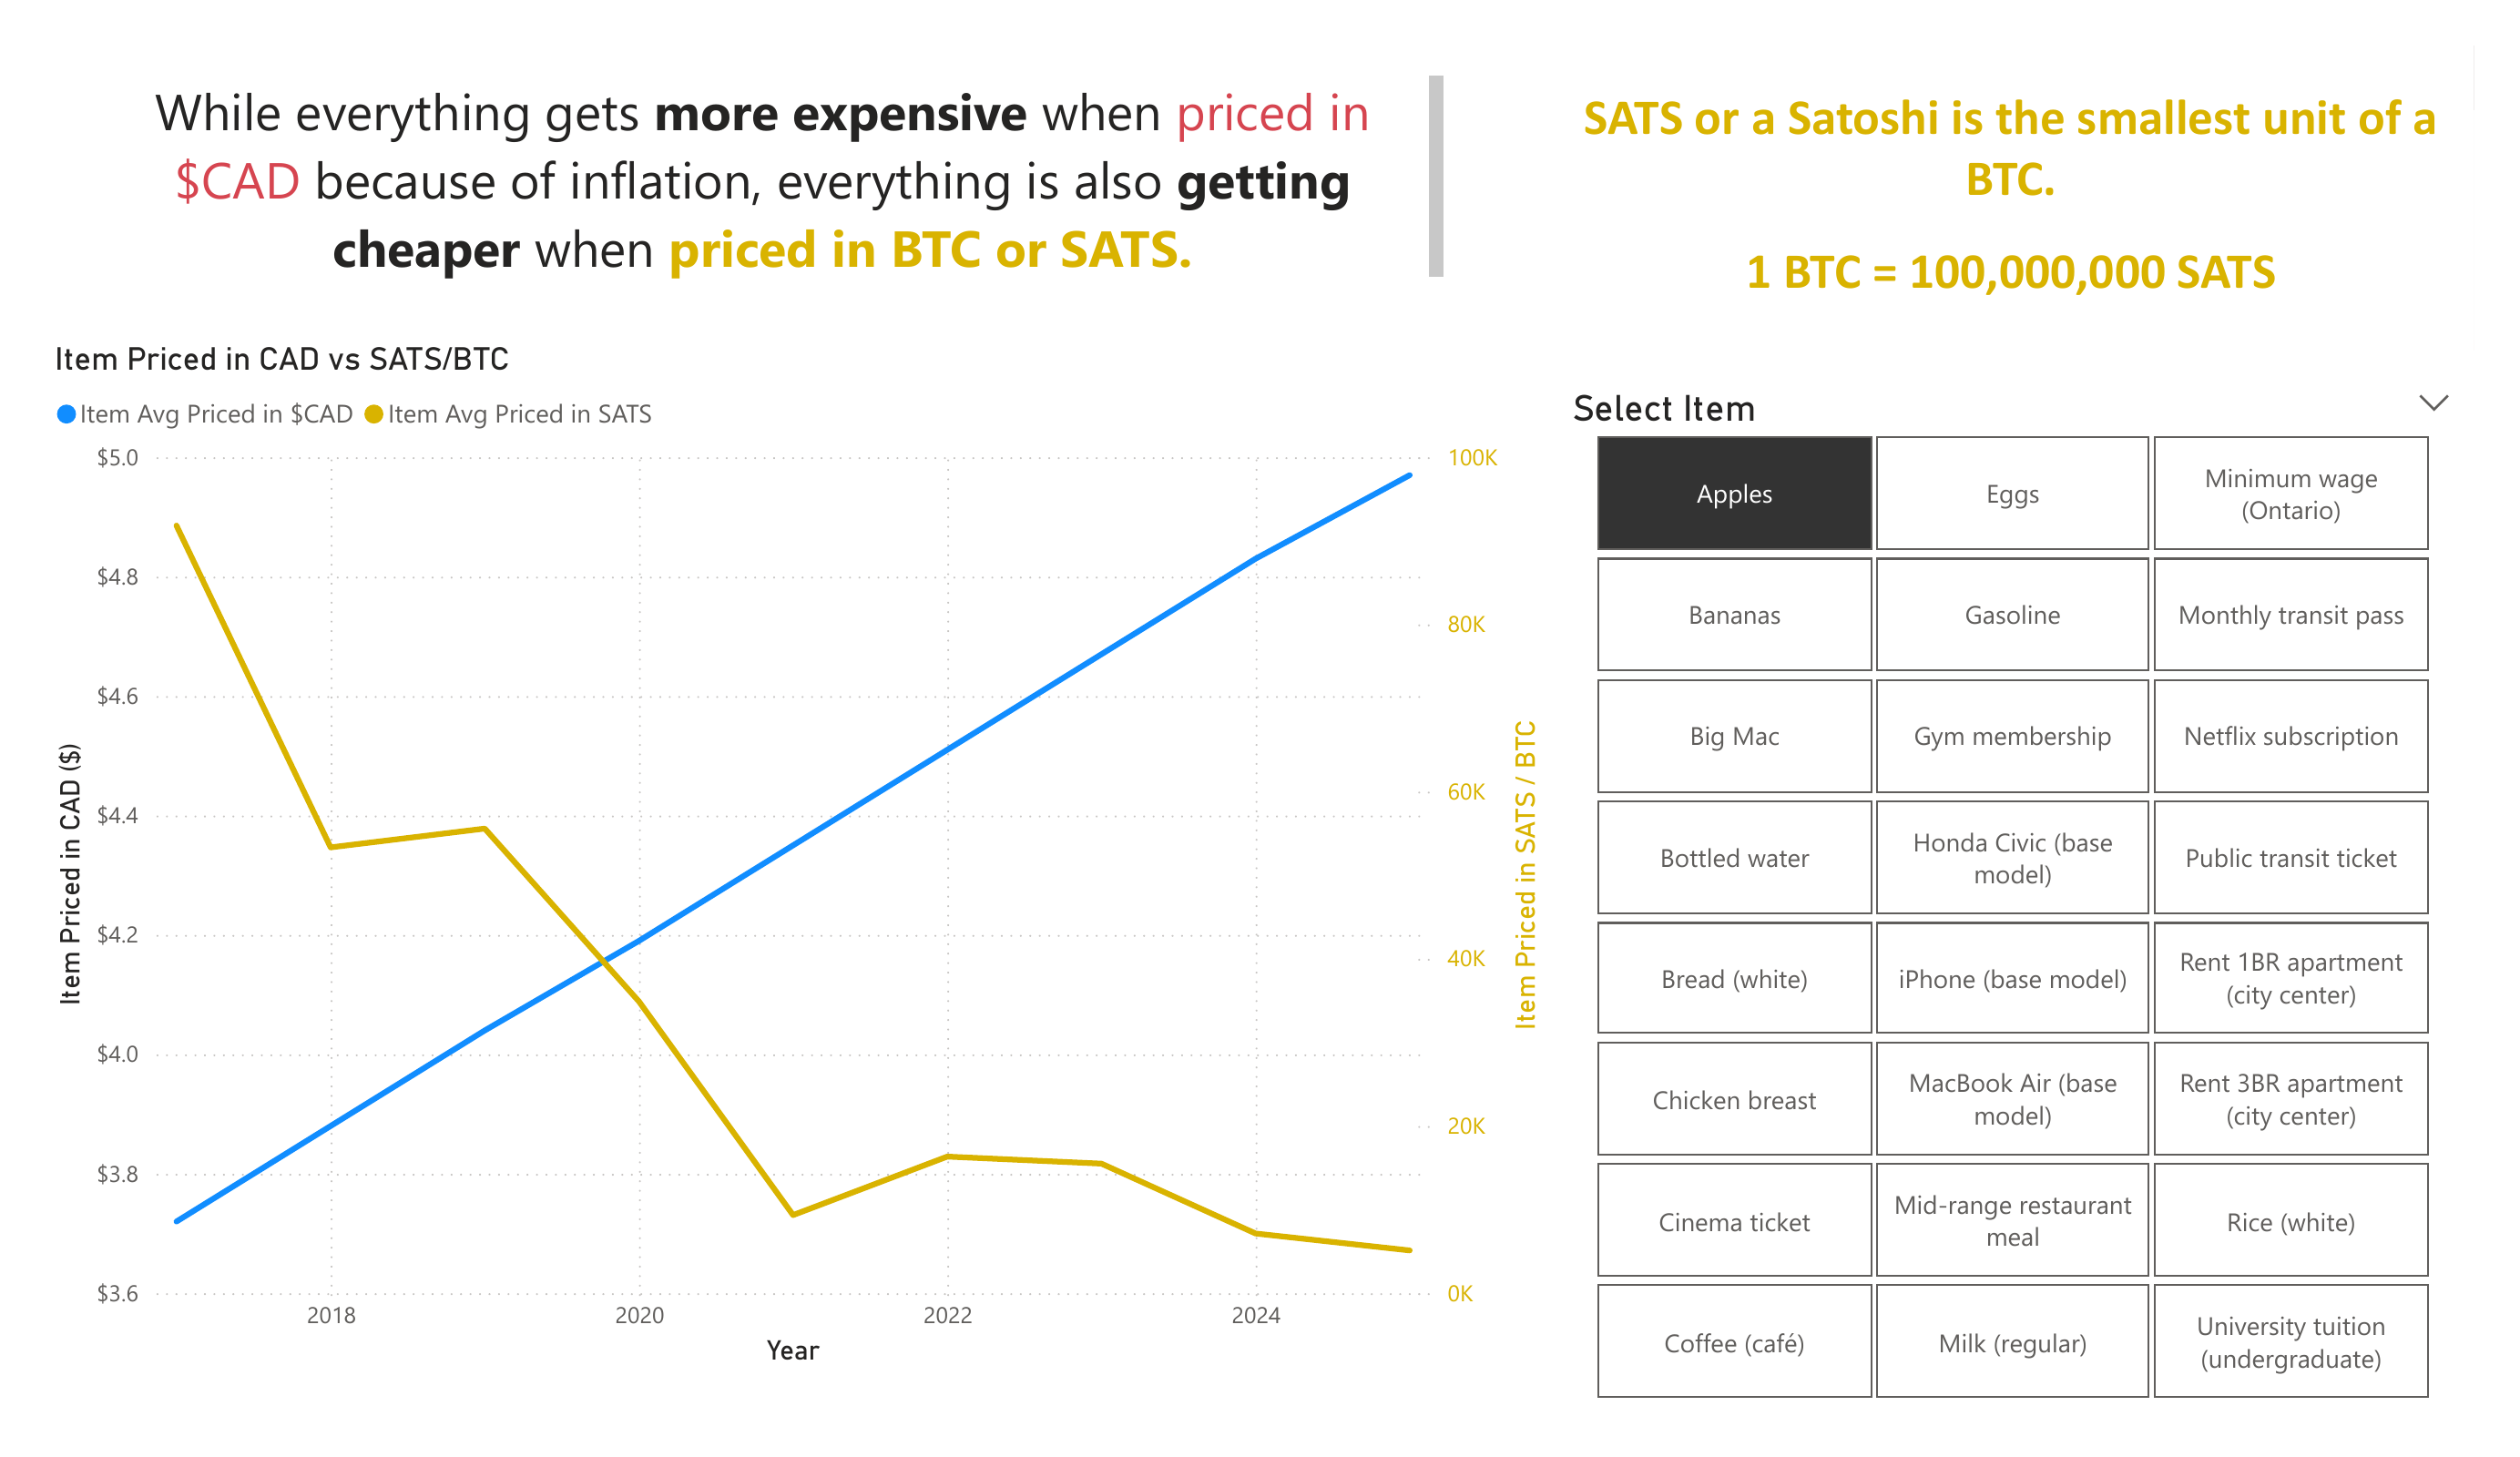

What the dashboard file says about the page in this screenshot:
{"tool":"powerbi","page":{"name":"Priced in BTC","canvas":[1280,720],"ordinal":2},"visuals":[{"type":"lineChart","title":"Item Priced in CAD vs SATS/BTC","fields":{"Y":["Table 2 (item_historical_price).Avg Price"],"Category":["Table 2 (item_historical_price).year"],"Y2":["btc_monthly_price.Item_in_Sats"]},"box":[0,155.3,792.4,545.4],"z":0},{"type":"slicer","fields":{"Values":["Table 1 (item).name"]},"box":[792.4,174.9,487.9,545.4],"z":1},{"type":"textbox","box":[22,11,720.2,117.4],"z":2},{"type":"textbox","box":[792.4,0,487.9,155.3],"z":3}]}

Visuals, with their boxes on the page's 1280x720 design canvas (x1, y1, x2, y2). These are canvas units, not pixel positions in the 2520x1457 screenshot, which may show the page scaled, cropped or inside an application window:
"Item Priced in CAD vs SATS/BTC" lineChart: [0,155,792,701]
slicer - Table 1 (item).name: [792,175,1280,720]
textbox: [22,11,742,128]
textbox: [792,0,1280,155]
